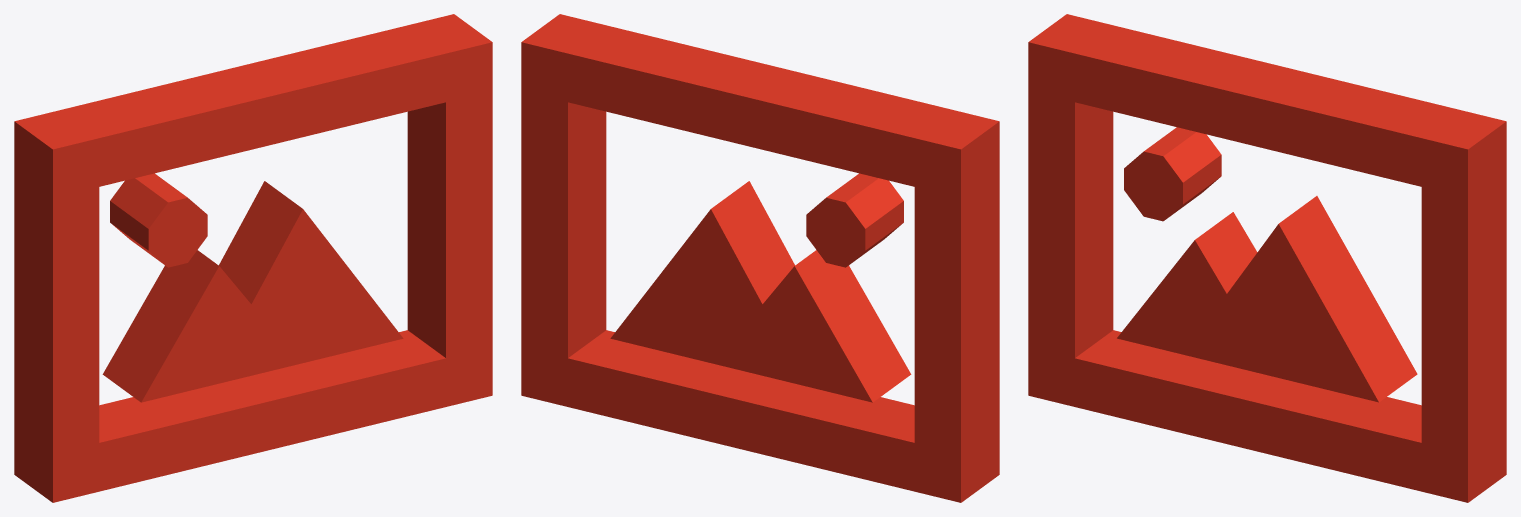
Rendered from Icon_Picture_01.fbx.
3 renders of one model, left to right at view 1: azimuth 30°, elevation 25°; view 2: azimuth 150°, elevation 25°; view 3: azimuth 330°, elevation 25°, orthographic.
Parts seen in each view (by area): view 1: Icon_Picture_01; view 2: Icon_Picture_01; view 3: Icon_Picture_01.
Boxes of the visible parts, box(x1,y1,x2,y2) form: Icon_Picture_01: box(14, 14, 492, 502); Icon_Picture_01: box(521, 14, 999, 502); Icon_Picture_01: box(1028, 14, 1506, 502).
Size of the model in its own units: 79.49 by 61.05 by 12.06.
